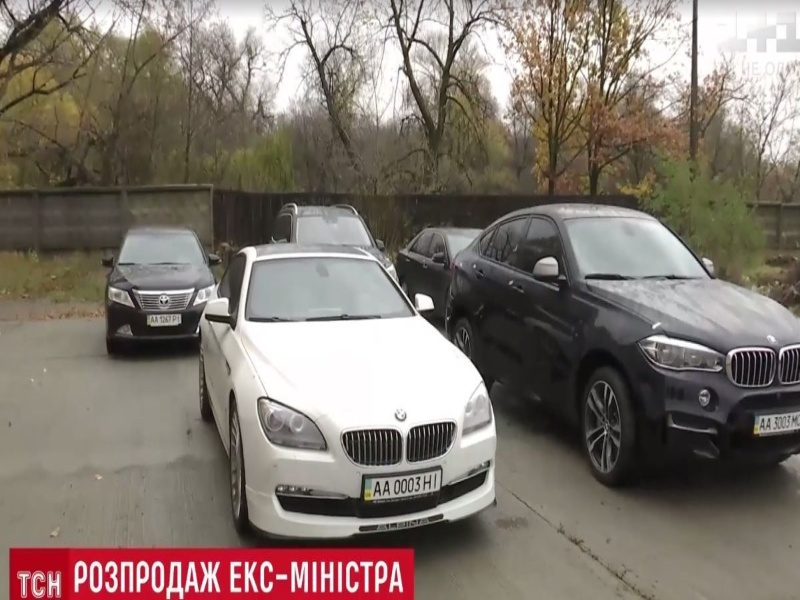car: (446, 204, 800, 481), (198, 246, 497, 543), (102, 226, 224, 357), (271, 203, 398, 285), (395, 228, 483, 322)
plate: (362, 468, 440, 501), (752, 412, 800, 434), (146, 314, 182, 325)
